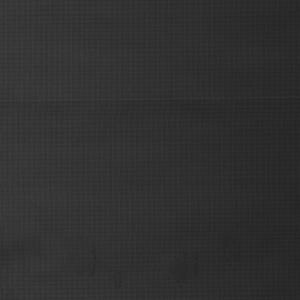Stain: (171, 246, 205, 289), (220, 228, 247, 272), (89, 249, 102, 278), (112, 271, 125, 293)
